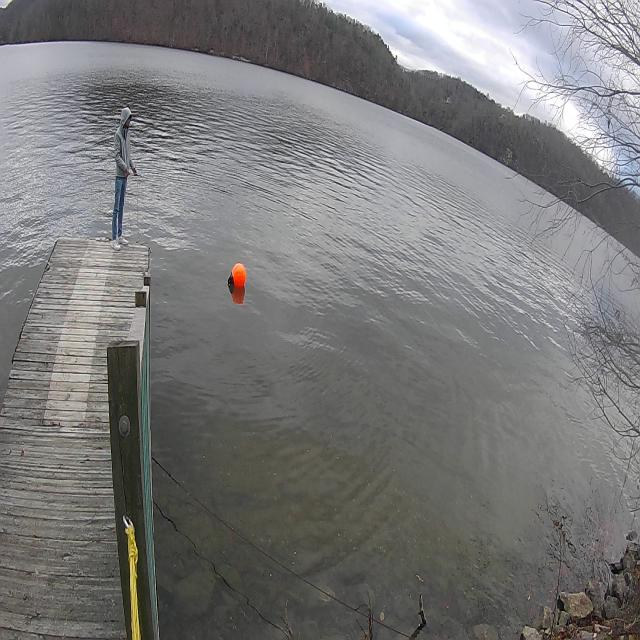Buoy: (227, 256, 248, 294)
